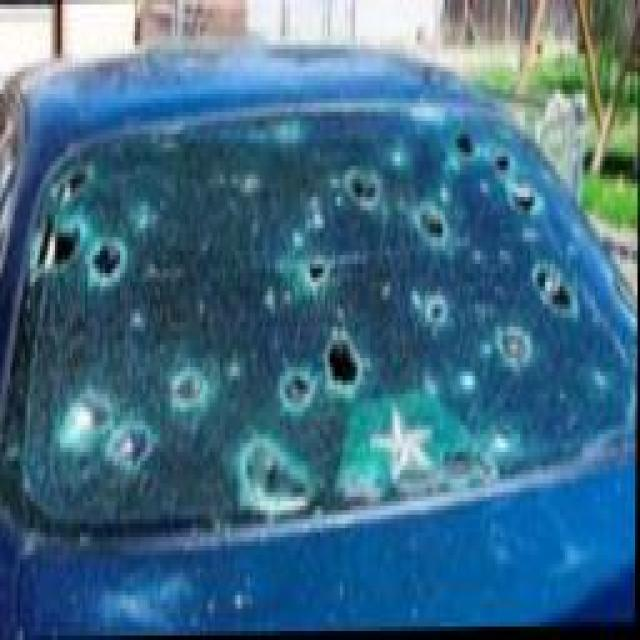Windshield: (0, 102, 638, 552)
